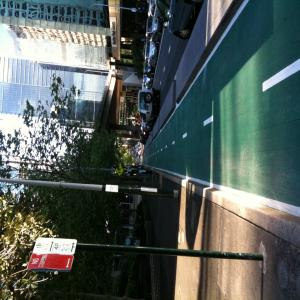Vehicle-registration-plate: (149, 107, 151, 112)
